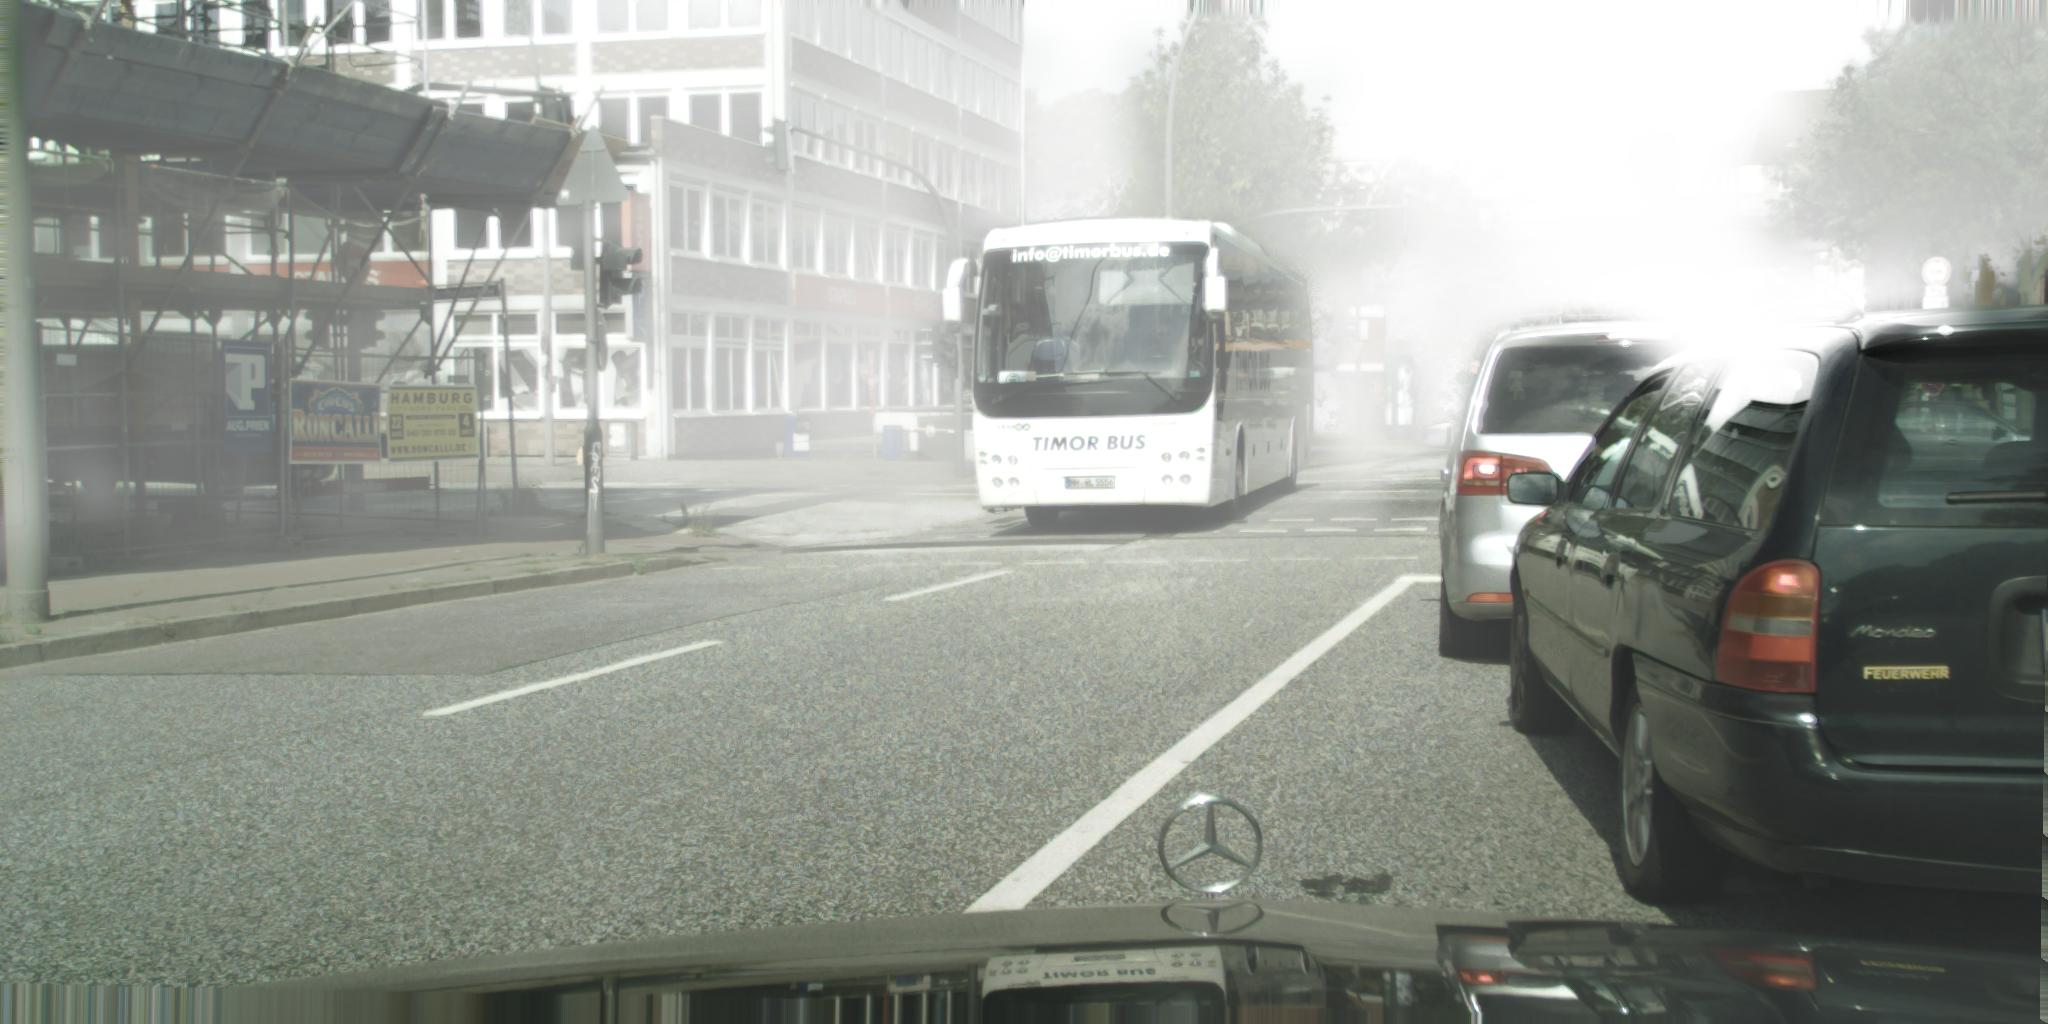bus: (940, 217, 1315, 526)
car: (1509, 298, 2048, 906), (1418, 321, 1771, 660)
